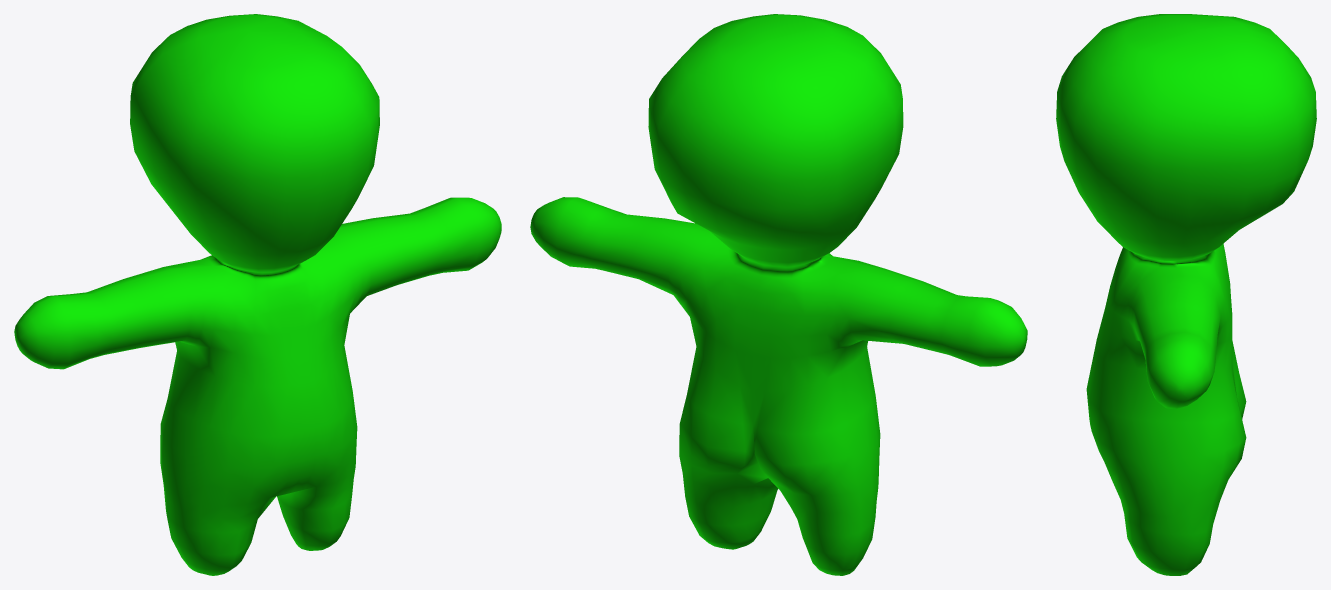
The model's file is FEUDAlien.fbx.
3 views of the same model, side by side, from view 1: azimuth 30°, elevation 25°; view 2: azimuth 150°, elevation 25°; view 3: azimuth 270°, elevation 25° (orthographic). The views are drawn at different scales.
Parts seen in each view (by area): view 1: Alien; view 2: Alien; view 3: Alien.
Boxes of the visible parts, <box> form: Alien: <box>14,14,501,575</box>; Alien: <box>530,14,1027,575</box>; Alien: <box>1056,14,1316,575</box>.
Size of the model in its own units: 435 by 450 by 205.
